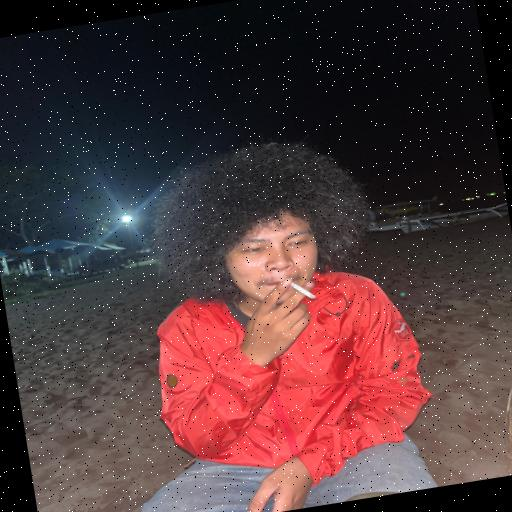dataset-deteksi-merokok: (228, 198, 341, 328)
